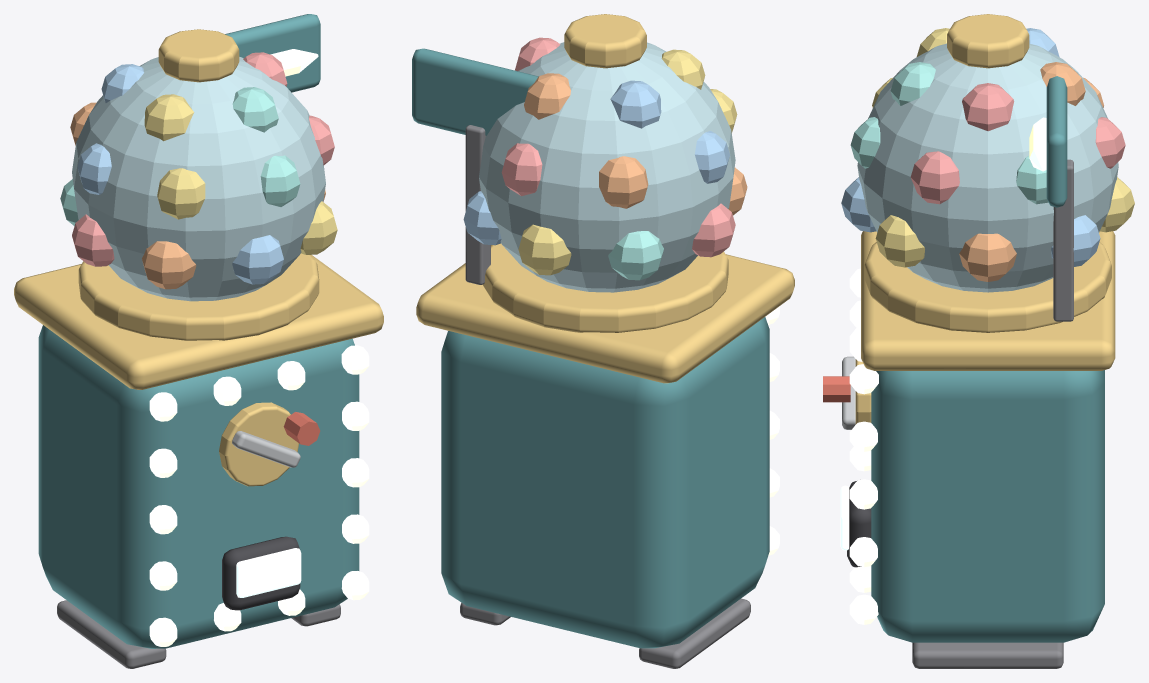
File: machine_ammo.glb
3 renders of one model, left to right at view 1: azimuth 30°, elevation 25°; view 2: azimuth 150°, elevation 25°; view 3: azimuth 270°, elevation 25°, orthographic. The views are drawn at different scales.
Parts seen in each view (by area): view 1: MerchantShop; view 2: MerchantShop; view 3: MerchantShop.
Boxes of the visible parts, box(x1,y1,x2,y2) form: MerchantShop: box(14, 14, 383, 668); MerchantShop: box(412, 14, 794, 668); MerchantShop: box(823, 14, 1134, 668).
Bounding box in the file's own units: 0.97 × 1.89 × 0.907.
